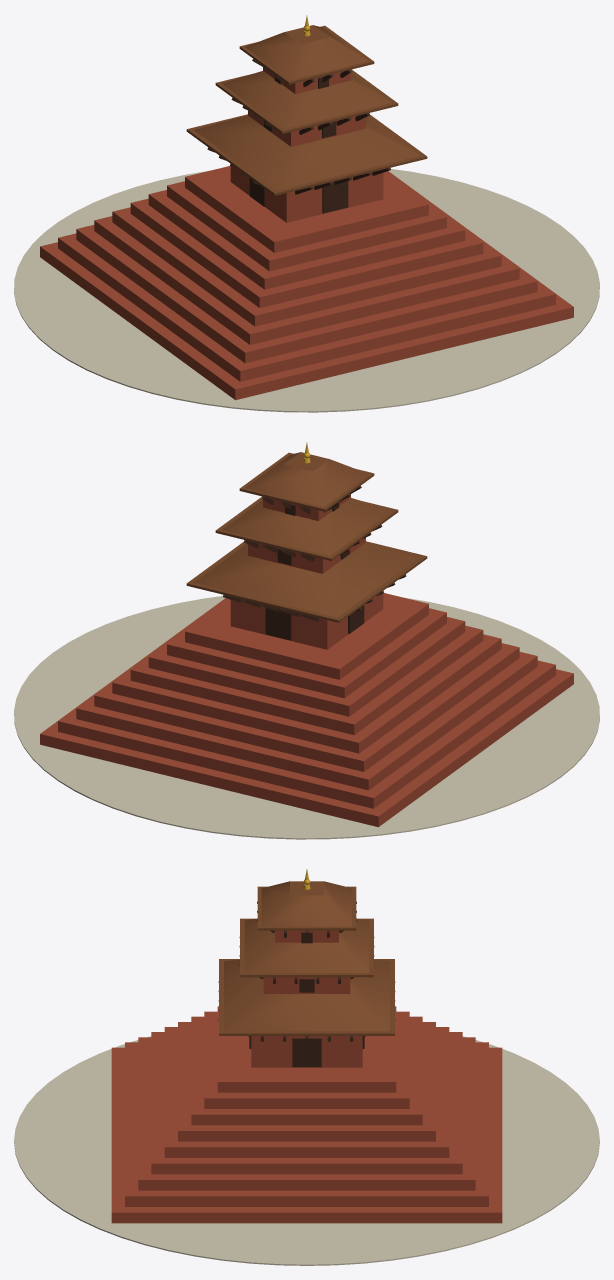
Rendered from maju-dega.gltf.
The picture shows the model from 3 angles, top to bottom: view 1: azimuth 30°, elevation 25°; view 2: azimuth 150°, elevation 25°; view 3: azimuth 270°, elevation 25°; orthographic projection.
Visible parts, largest first — view 1: ground, object 1, object 2, object 3, object 4, object 35, object 9, object 5, object 6, object 7, object 8, object 58 (+8 smaller); view 2: ground, object 1, object 2, object 3, object 4, object 35, object 9, object 5, object 6, object 7, object 8, object 58 (+8 smaller); view 3: ground, object 1, object 2, object 3, object 4, object 35, object 5, object 6, object 9, object 7, object 8, object 58 (+8 smaller).
Part boxes in pixels (bbox=[...]): ground: bbox=[14, 169, 599, 412]; object 1: bbox=[40, 171, 573, 400]; object 2: bbox=[58, 171, 555, 381]; object 3: bbox=[76, 171, 537, 363]; object 4: bbox=[94, 171, 519, 344]; object 35: bbox=[194, 115, 419, 190]; object 9: bbox=[185, 166, 428, 252]; object 5: bbox=[112, 171, 501, 326]; object 6: bbox=[130, 172, 483, 307]; object 7: bbox=[148, 172, 465, 289]; object 8: bbox=[167, 172, 446, 271]; object 58: bbox=[222, 71, 391, 129]; ground: bbox=[14, 596, 599, 839]; object 1: bbox=[40, 598, 573, 827]; object 2: bbox=[58, 598, 555, 808]; object 3: bbox=[76, 598, 537, 790]; object 4: bbox=[94, 598, 519, 771]; object 35: bbox=[194, 542, 419, 617]; object 9: bbox=[185, 593, 428, 679]; object 5: bbox=[112, 598, 501, 753]; object 6: bbox=[130, 599, 483, 734]; object 7: bbox=[148, 599, 465, 716]; object 8: bbox=[167, 599, 446, 698]; object 58: bbox=[222, 498, 391, 556]; ground: bbox=[14, 1036, 599, 1265]; object 1: bbox=[111, 1047, 502, 1223]; object 2: bbox=[125, 1042, 488, 1206]; object 3: bbox=[138, 1037, 475, 1190]; object 4: bbox=[151, 1032, 462, 1174]; object 35: bbox=[224, 959, 389, 1031]; object 5: bbox=[164, 1027, 449, 1157]; object 6: bbox=[178, 1022, 435, 1141]; object 9: bbox=[217, 1006, 396, 1092]; object 7: bbox=[191, 1016, 422, 1125]; object 8: bbox=[204, 1011, 409, 1108]; object 58: bbox=[244, 918, 369, 972].
Size of the model in its own units: 42 by 21.68 by 42.
